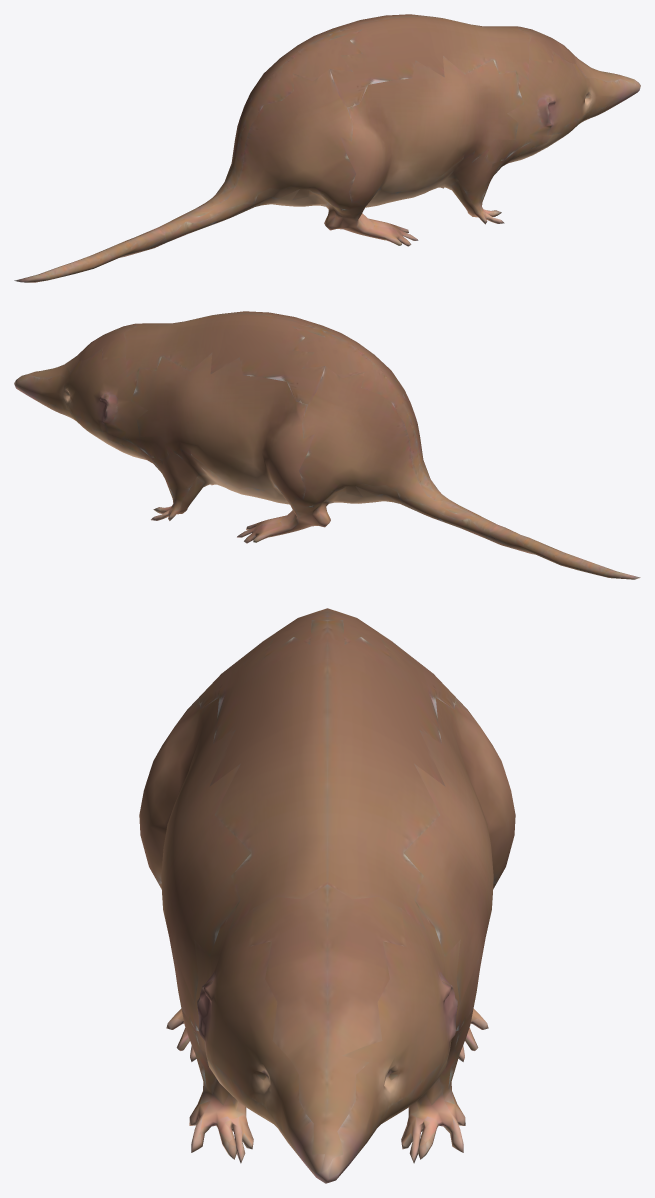
Rendered from shrew.glb.
The picture shows the model from 3 angles, top to bottom: view 1: azimuth 30°, elevation 25°; view 2: azimuth 150°, elevation 25°; view 3: azimuth 270°, elevation 25°; orthographic projection. The views are drawn at different scales.
Visible parts, largest first — view 1: Shrew; view 2: Shrew; view 3: Shrew.
Part boxes in pixels (box(x1,y1,x2,y2)): Shrew: box(14, 14, 640, 282); Shrew: box(14, 311, 640, 579); Shrew: box(139, 608, 515, 1183).
Size of the model in its own units: 2.1 by 0.6557 by 0.546.
Materials: 1 (1 with a texture image).
